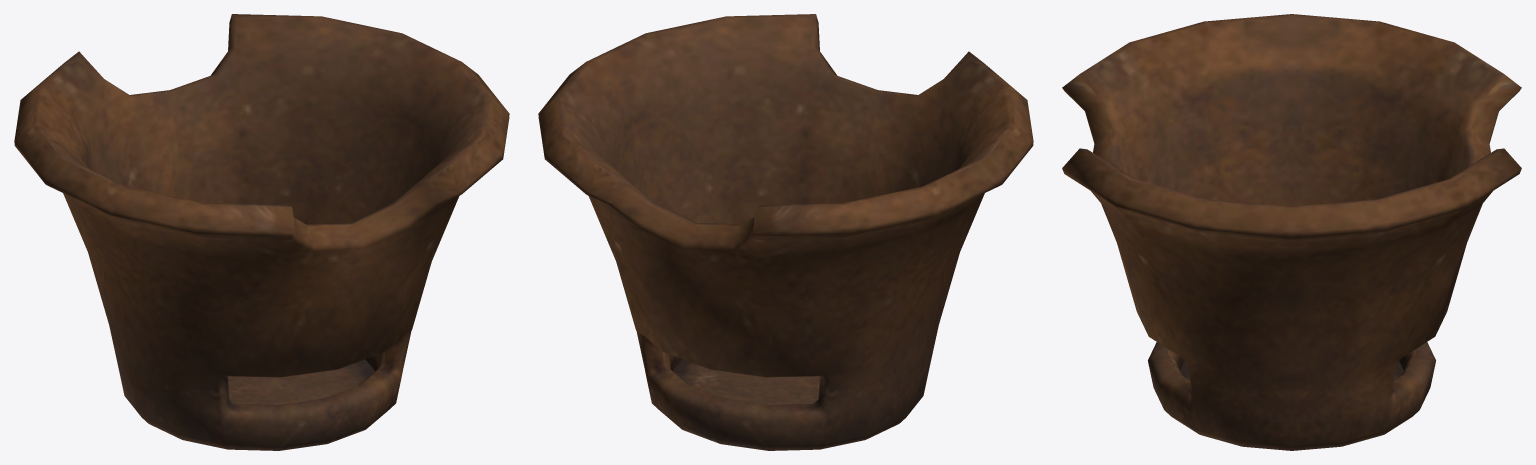
Rendered from charcoalCooker01.FBX.
3 renders of one model, left to right at view 1: azimuth 30°, elevation 25°; view 2: azimuth 150°, elevation 25°; view 3: azimuth 270°, elevation 25°, orthographic.
Visible parts, largest first — view 1: SM_CharcoalCooker01; view 2: SM_CharcoalCooker01; view 3: SM_CharcoalCooker01.
Part boxes in pixels (x1,y1,x2,y2): SM_CharcoalCooker01: (14, 14, 509, 450); SM_CharcoalCooker01: (538, 14, 1033, 450); SM_CharcoalCooker01: (1062, 14, 1521, 450).
Size of the model in its own units: 38.31 by 24.44 by 35.35.
Materials: 1 (1 with a texture image).
